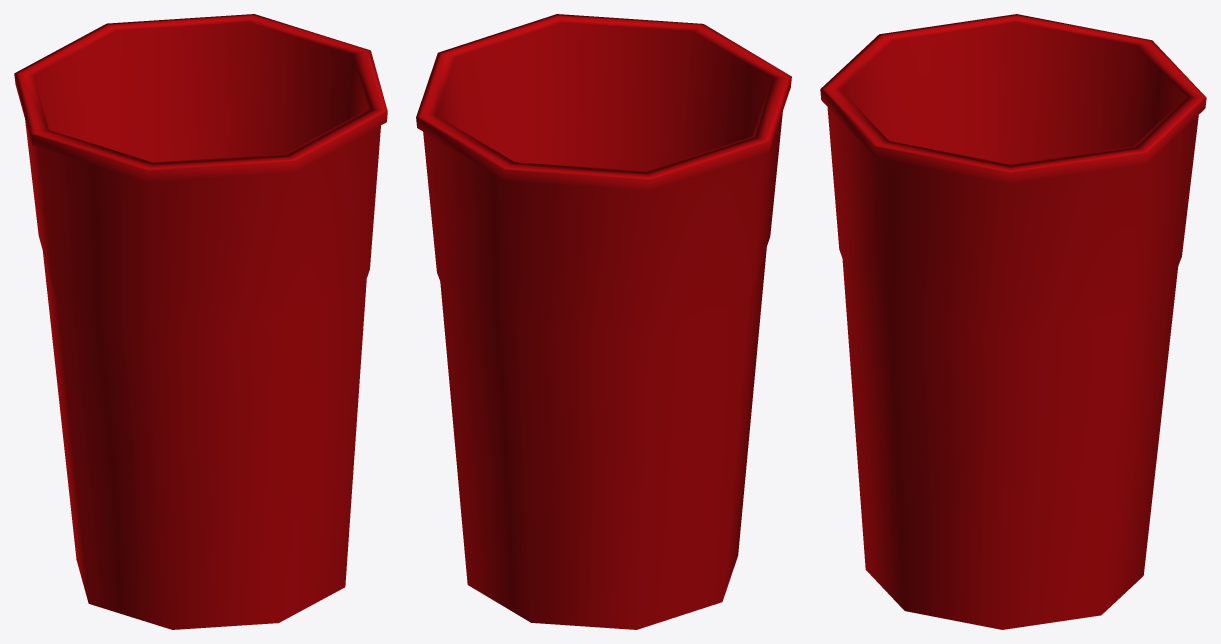
File: Solo_Cup.fbx
3 renders of one model, left to right at view 1: azimuth 30°, elevation 25°; view 2: azimuth 150°, elevation 25°; view 3: azimuth 270°, elevation 25°, orthographic.
Visible parts, largest first — view 1: Spilled_Cup; view 2: Spilled_Cup; view 3: Spilled_Cup.
Part boxes in pixels (x1,y1,x2,y2): Spilled_Cup: (14, 14, 387, 629); Spilled_Cup: (416, 14, 791, 629); Spilled_Cup: (820, 14, 1206, 629).
Bounding box in the file's own units: 12.7 × 17.5 × 12.7.
